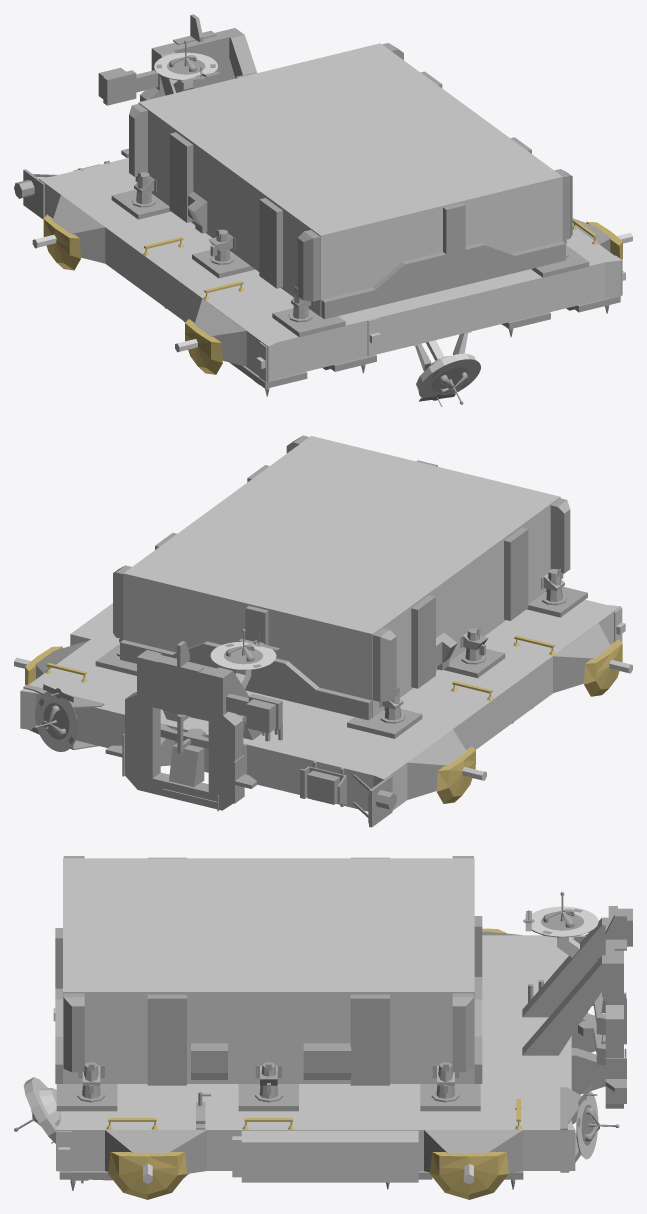
Rendered from ELC4.glb.
3 views of the same model, one above another, from view 1: azimuth 30°, elevation 25°; view 2: azimuth 150°, elevation 25°; view 3: azimuth 270°, elevation 25° (orthographic). The views are drawn at different scales.
Parts seen in each view (by area): view 1: ELC4_resized; view 2: ELC4_resized; view 3: ELC4_resized.
Boxes of the visible parts, x1=… form: ELC4_resized: x1=14, y1=14, x2=632, y2=406; ELC4_resized: x1=14, y1=435, x2=632, y2=827; ELC4_resized: x1=14, y1=856, x2=632, y2=1199.
Size of the model in its own units: 208 by 91.1 by 217.
